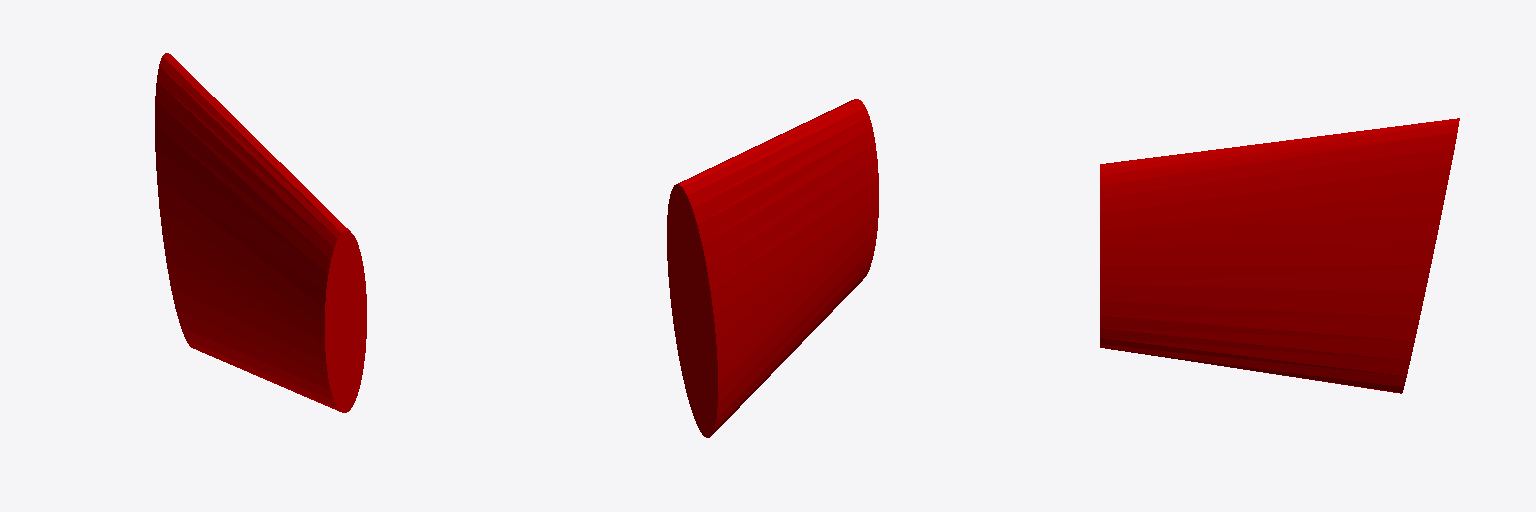
File: Rudder.obj
3 renders of one model, left to right at view 1: azimuth 30°, elevation 25°; view 2: azimuth 150°, elevation 25°; view 3: azimuth 270°, elevation 25°, orthographic.
Parts seen in each view (by area): view 1: Rudder_Cube; view 2: Rudder_Cube; view 3: Rudder_Cube.
Boxes of the visible parts, x1,y1,x2,y2 form: Rudder_Cube: [155, 53, 366, 412]; Rudder_Cube: [667, 99, 878, 437]; Rudder_Cube: [1100, 118, 1459, 393].
Bounding box in the file's own units: 1.08 × 6.69 × 7.91.